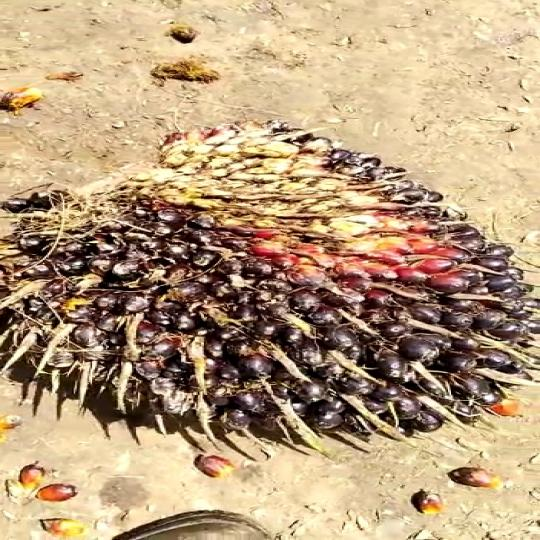mentah: (0, 115, 540, 438)
